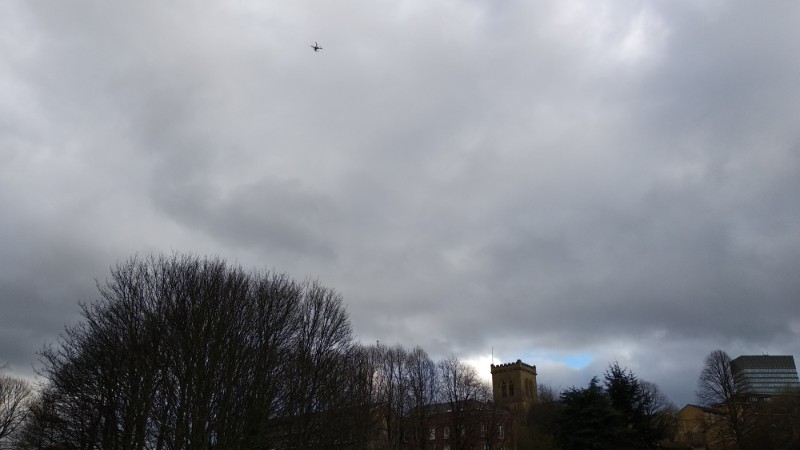drone: (311, 41, 322, 53)
